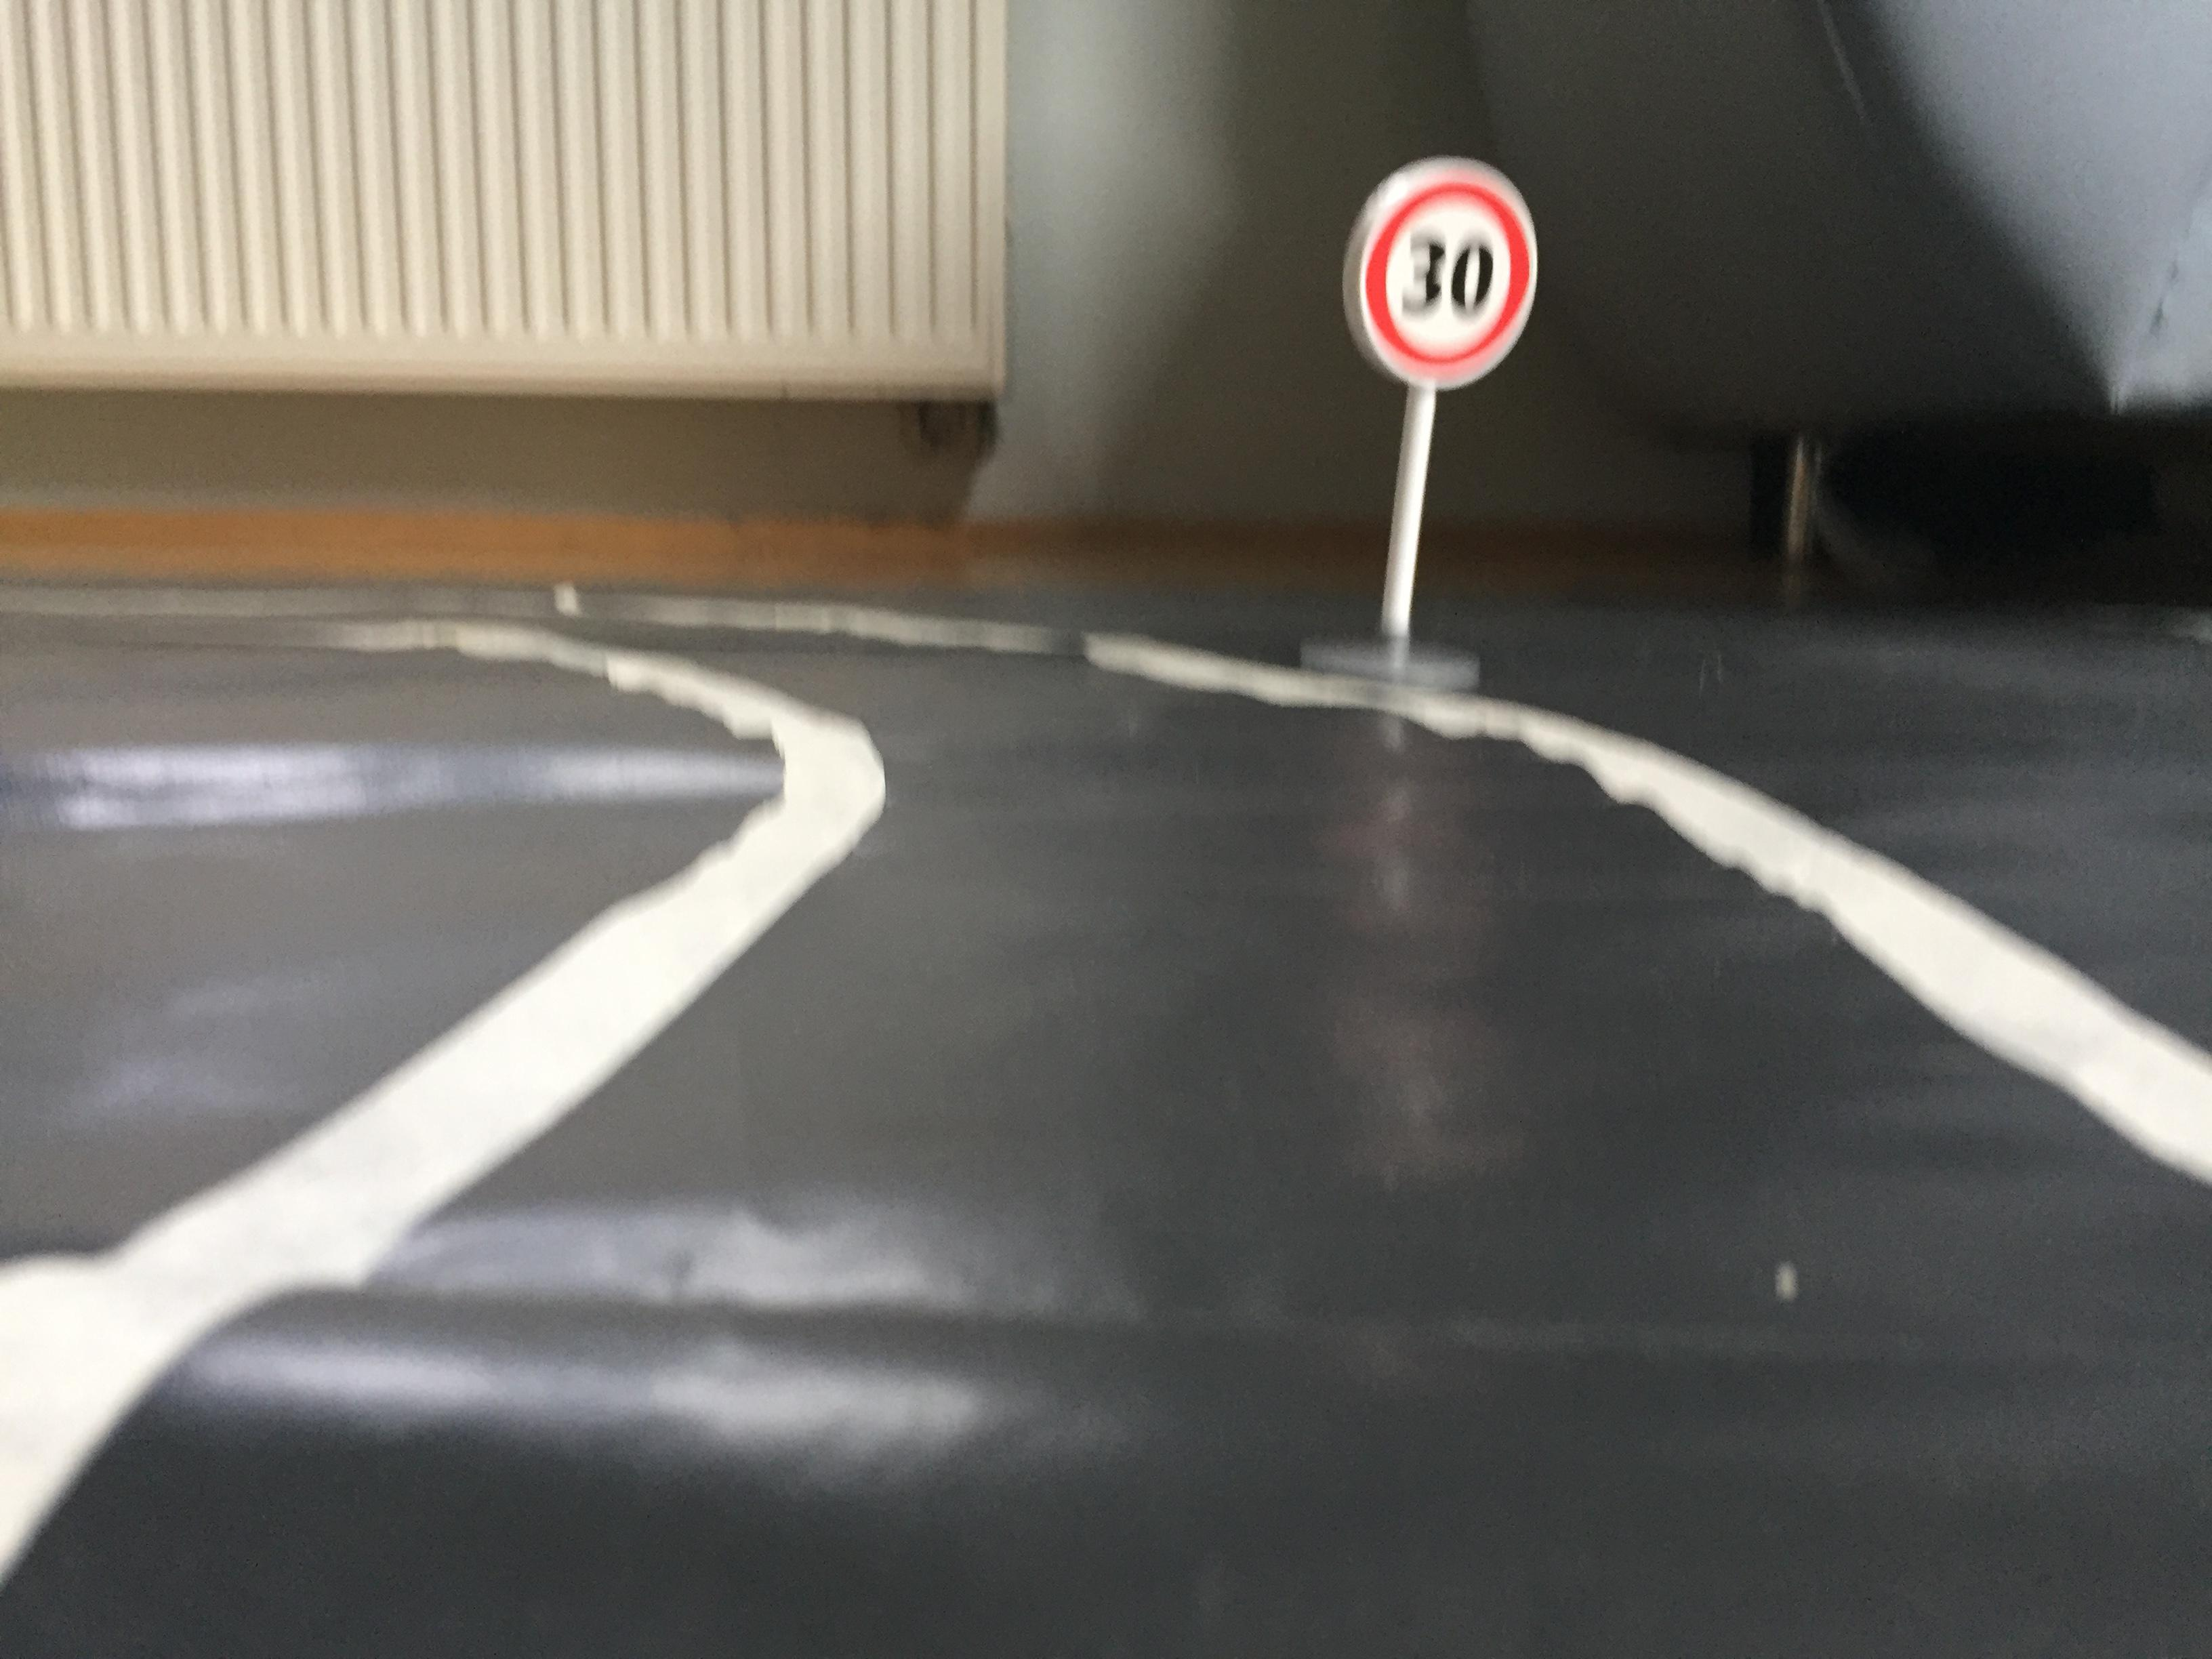speed: (1332, 155, 1547, 403)
